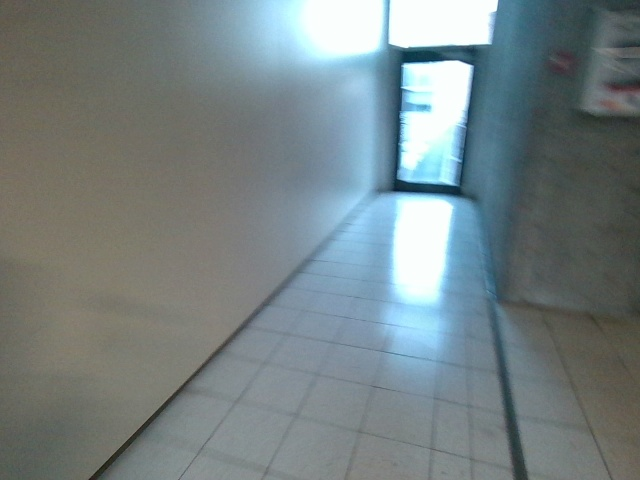door_single: (392, 50, 476, 199)
